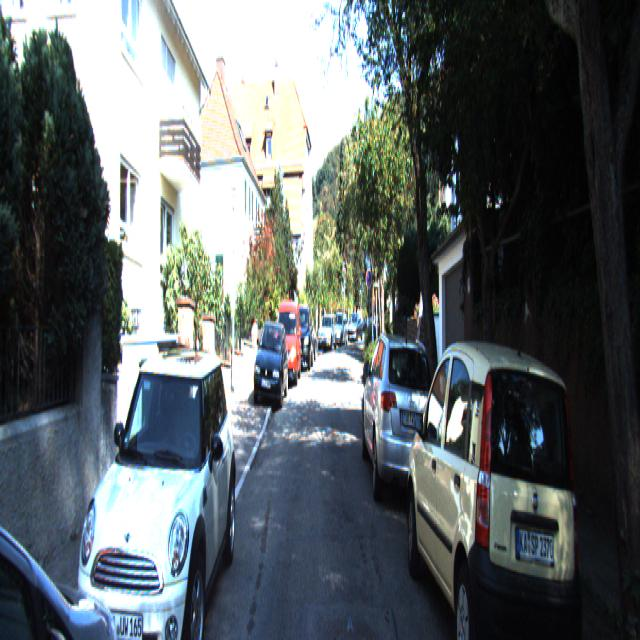Car: (403, 330, 600, 638), (66, 343, 236, 638), (0, 364, 139, 638), (360, 323, 443, 522), (253, 317, 288, 415), (274, 297, 302, 389), (290, 302, 314, 374), (318, 315, 338, 356)
